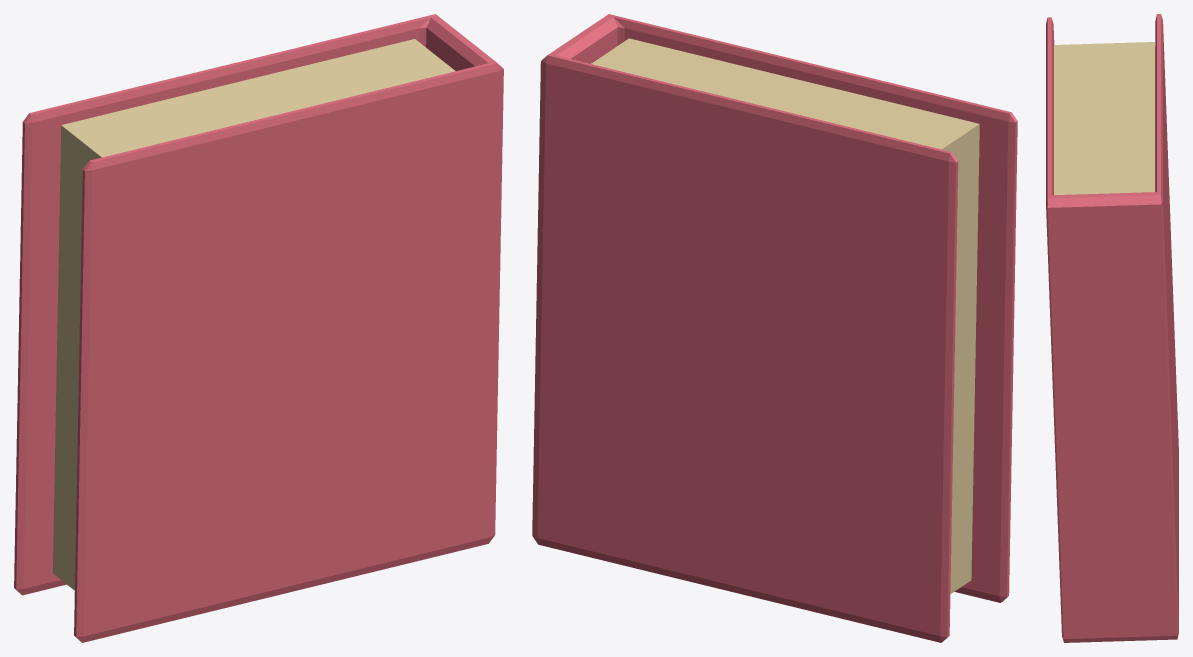
File: Red_book.fbx
3 views of the same model, side by side, from view 1: azimuth 30°, elevation 25°; view 2: azimuth 150°, elevation 25°; view 3: azimuth 270°, elevation 25° (orthographic). The views are drawn at different scales.
Visible parts, largest first — view 1: Book.010, Book.013; view 2: Book.010, Book.013; view 3: Book.010, Book.013.
Part boxes in pixels (left/top/right/bottom): Book.010: left=14, top=14, right=503, bottom=642; Book.013: left=52, top=39, right=455, bottom=590; Book.010: left=532, top=14, right=1017, bottom=642; Book.013: left=591, top=38, right=979, bottom=593; Book.010: left=1046, top=14, right=1178, bottom=642; Book.013: left=1054, top=42, right=1155, bottom=195.
Size of the model in its own units: 0.4487 by 0.5023 by 0.1351.
